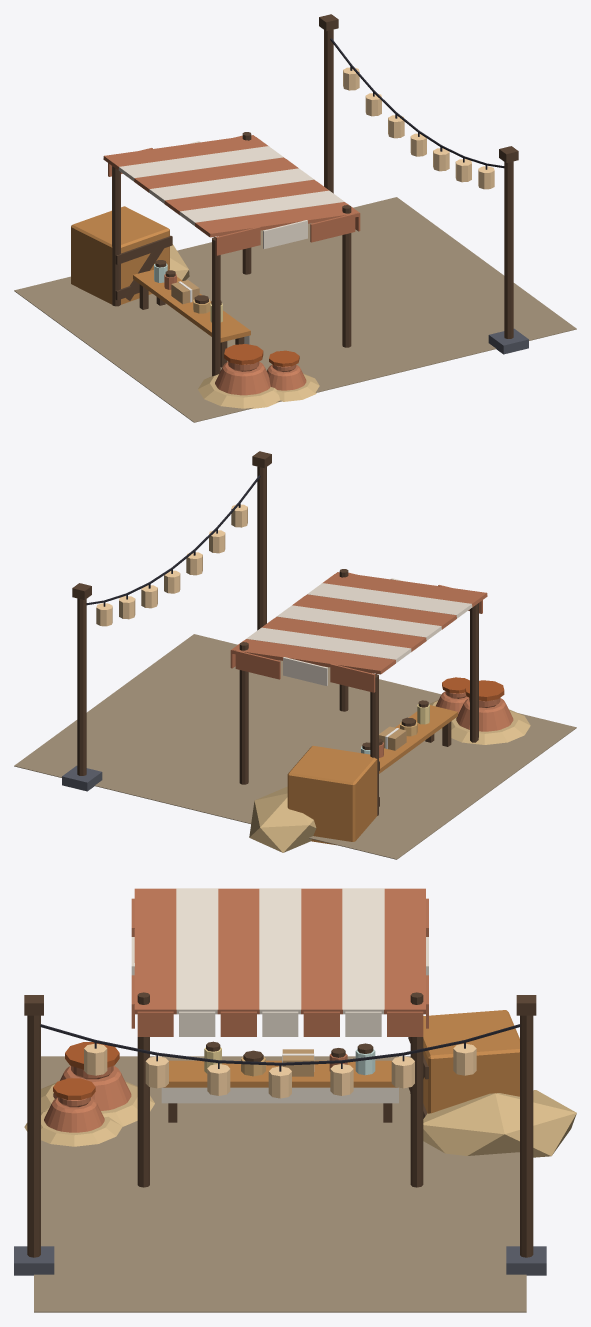
Rendered from CatCafe_Camp_Desert_Growth.glb.
3 renders of one model, top to bottom at view 1: azimuth 30°, elevation 25°; view 2: azimuth 150°, elevation 25°; view 3: azimuth 270°, elevation 25°, orthographic. The views are drawn at different scales.
Visible parts, largest first — view 1: CatCafe_Camp_Desert_Growth, CatCafe_Camp_Desert_Growth_000_Stall, CatCafe_Camp_Desert_Growth_004_Crate, CatCafe_Camp_Desert_Growth_001_Lanterns, CatCafe_Camp_Desert_Growth_002_Pot, CatCafe_Camp_Desert_Growth_001_Lanterns_Bulbs, CatCafe_Camp_Desert_Growth_003_Pot, CatCafe_Camp_Desert_Growth_000_Stall_Decor, CatCafe_Camp_Desert_Growth_001_Lanterns_Decor; view 2: CatCafe_Camp_Desert_Growth, CatCafe_Camp_Desert_Growth_000_Stall, CatCafe_Camp_Desert_Growth_004_Crate, CatCafe_Camp_Desert_Growth_001_Lanterns, CatCafe_Camp_Desert_Growth_002_Pot, CatCafe_Camp_Desert_Growth_001_Lanterns_Bulbs, CatCafe_Camp_Desert_Growth_000_Stall_Decor, CatCafe_Camp_Desert_Growth_003_Pot, CatCafe_Camp_Desert_Growth_001_Lanterns_Decor; view 3: CatCafe_Camp_Desert_Growth, CatCafe_Camp_Desert_Growth_000_Stall, CatCafe_Camp_Desert_Growth_004_Crate, CatCafe_Camp_Desert_Growth_001_Lanterns, CatCafe_Camp_Desert_Growth_001_Lanterns_Bulbs, CatCafe_Camp_Desert_Growth_003_Pot, CatCafe_Camp_Desert_Growth_002_Pot, CatCafe_Camp_Desert_Growth_000_Stall_Decor, CatCafe_Camp_Desert_Growth_001_Lanterns_Decor.
Boxes of the visible parts, bbox=[...] form: CatCafe_Camp_Desert_Growth: bbox=[14, 197, 576, 422]; CatCafe_Camp_Desert_Growth_000_Stall: bbox=[103, 132, 360, 376]; CatCafe_Camp_Desert_Growth_004_Crate: bbox=[71, 206, 189, 304]; CatCafe_Camp_Desert_Growth_001_Lanterns: bbox=[319, 14, 528, 354]; CatCafe_Camp_Desert_Growth_002_Pot: bbox=[198, 344, 280, 408]; CatCafe_Camp_Desert_Growth_001_Lanterns_Bulbs: bbox=[343, 67, 494, 189]; CatCafe_Camp_Desert_Growth_003_Pot: bbox=[267, 350, 319, 401]; CatCafe_Camp_Desert_Growth_000_Stall_Decor: bbox=[154, 260, 222, 322]; CatCafe_Camp_Desert_Growth_001_Lanterns_Decor: bbox=[330, 38, 504, 169]; CatCafe_Camp_Desert_Growth: bbox=[14, 634, 576, 859]; CatCafe_Camp_Desert_Growth_000_Stall: bbox=[230, 569, 487, 815]; CatCafe_Camp_Desert_Growth_004_Crate: bbox=[249, 745, 379, 852]; CatCafe_Camp_Desert_Growth_001_Lanterns: bbox=[62, 451, 271, 791]; CatCafe_Camp_Desert_Growth_002_Pot: bbox=[441, 680, 530, 744]; CatCafe_Camp_Desert_Growth_001_Lanterns_Bulbs: bbox=[96, 504, 247, 626]; CatCafe_Camp_Desert_Growth_000_Stall_Decor: bbox=[361, 700, 429, 757]; CatCafe_Camp_Desert_Growth_003_Pot: bbox=[429, 677, 469, 714]; CatCafe_Camp_Desert_Growth_001_Lanterns_Decor: bbox=[86, 475, 260, 606]; CatCafe_Camp_Desert_Growth: bbox=[34, 1056, 526, 1312]; CatCafe_Camp_Desert_Growth_000_Stall: bbox=[131, 888, 428, 1187]; CatCafe_Camp_Desert_Growth_004_Crate: bbox=[408, 1010, 576, 1157]; CatCafe_Camp_Desert_Growth_001_Lanterns: bbox=[14, 995, 546, 1275]; CatCafe_Camp_Desert_Growth_001_Lanterns_Bulbs: bbox=[84, 1044, 476, 1098]; CatCafe_Camp_Desert_Growth_003_Pot: bbox=[24, 1078, 122, 1146]; CatCafe_Camp_Desert_Growth_002_Pot: bbox=[41, 1042, 154, 1126]; CatCafe_Camp_Desert_Growth_000_Stall_Decor: bbox=[204, 1041, 375, 1076]; CatCafe_Camp_Desert_Growth_001_Lanterns_Decor: bbox=[40, 1024, 520, 1071].
Size of the model in its own units: 13.5 by 7.22 by 12.58.
Materials: 1 (1 with a texture image).
